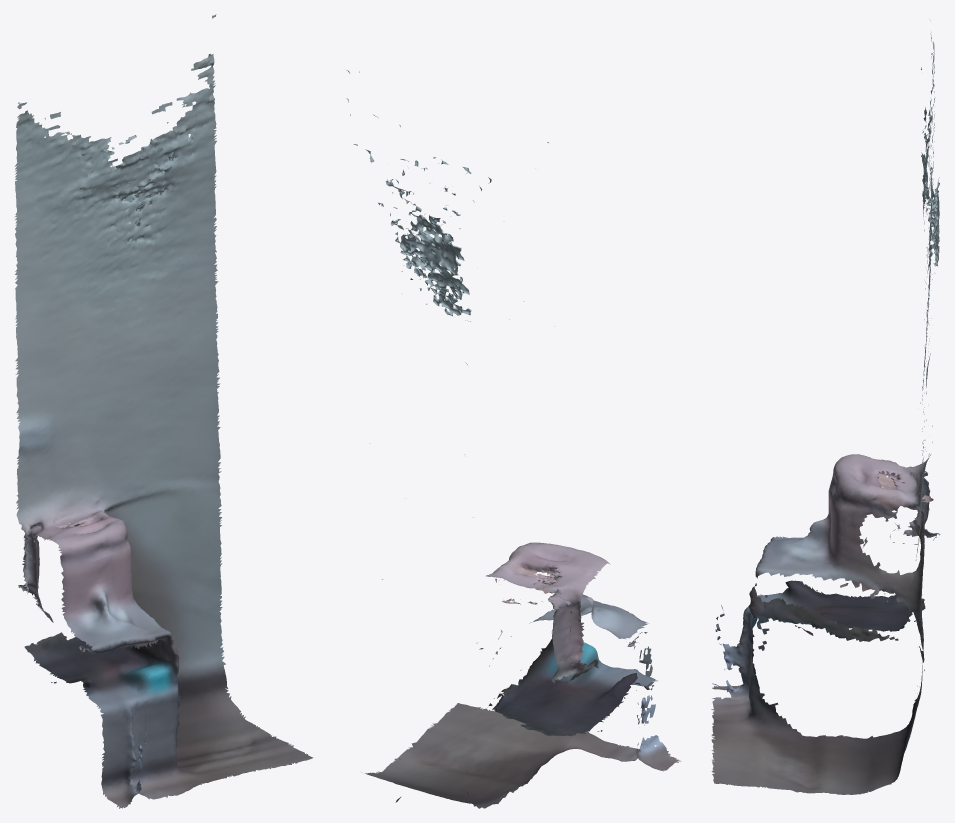
The model's file is apartment-full-49-7cf3d717ad90.glb.
3 renders of one model, left to right at view 1: azimuth 30°, elevation 25°; view 2: azimuth 150°, elevation 25°; view 3: azimuth 270°, elevation 25°, orthographic. The views are drawn at different scales.
Size of the model in its own units: 0.612 by 2.08 by 0.58.
